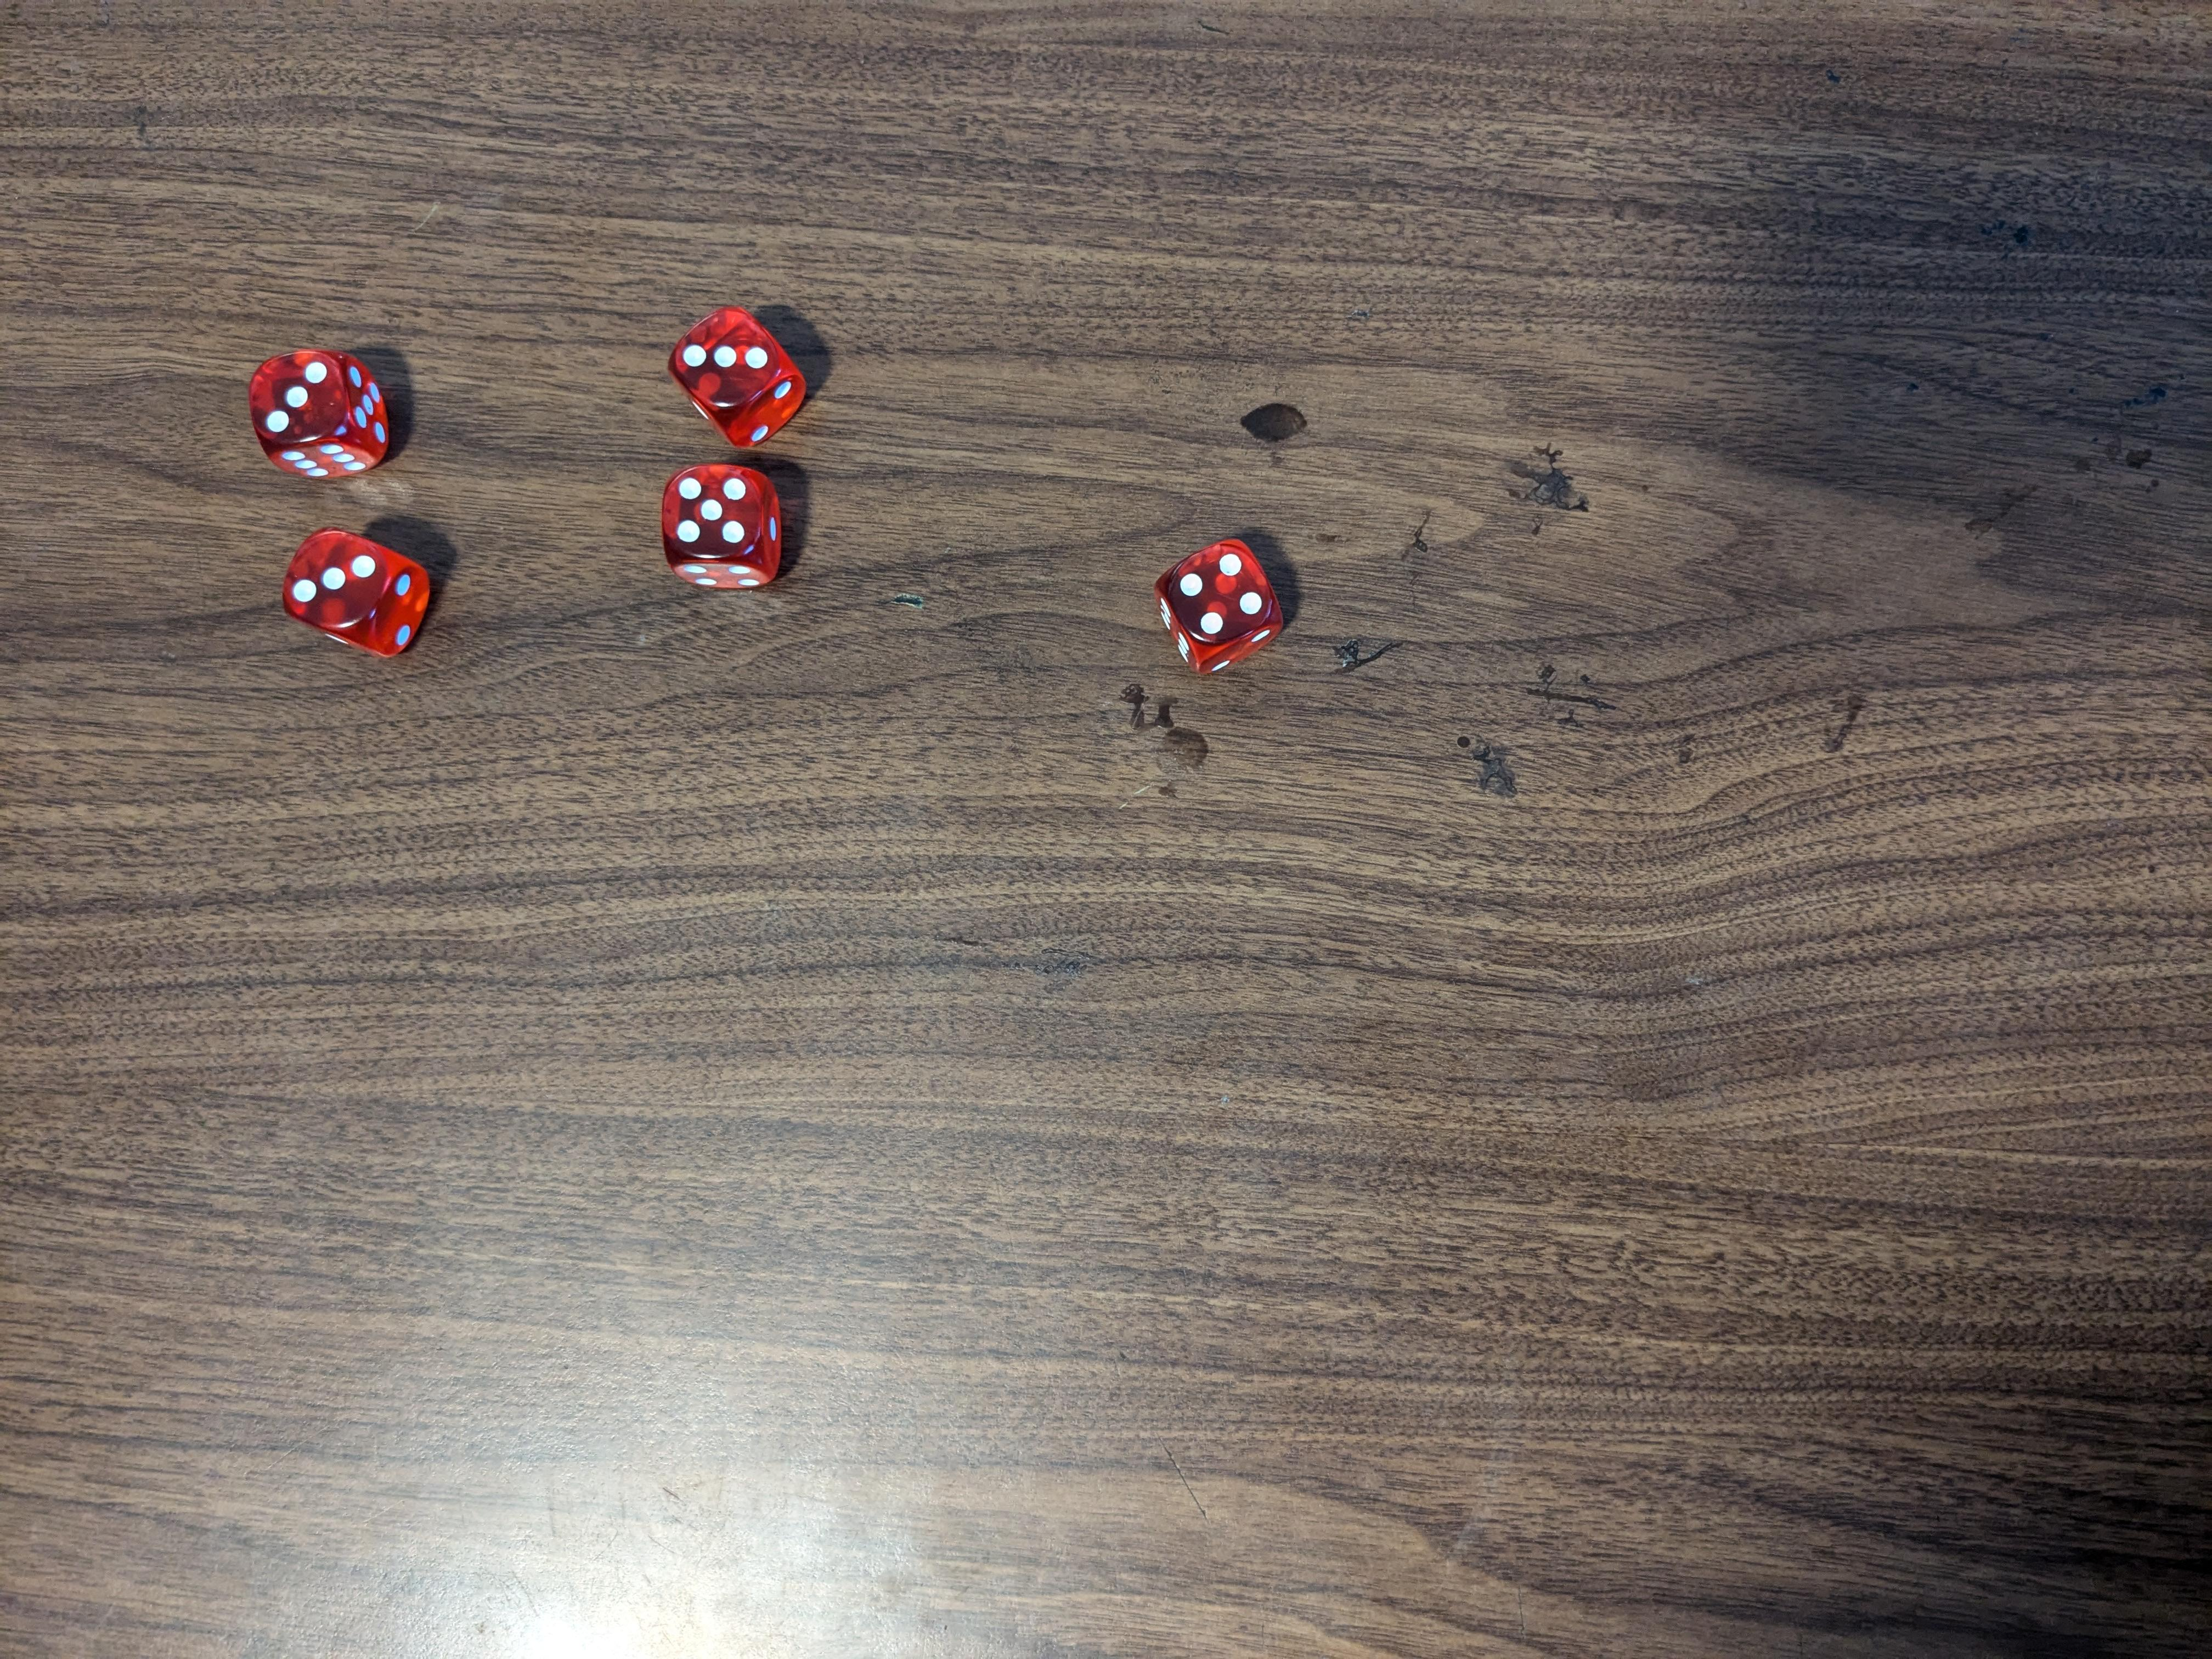five: (660, 464, 786, 589)
four: (1151, 532, 1294, 674)
three: (249, 345, 395, 486), (282, 528, 430, 659), (676, 305, 812, 444)
